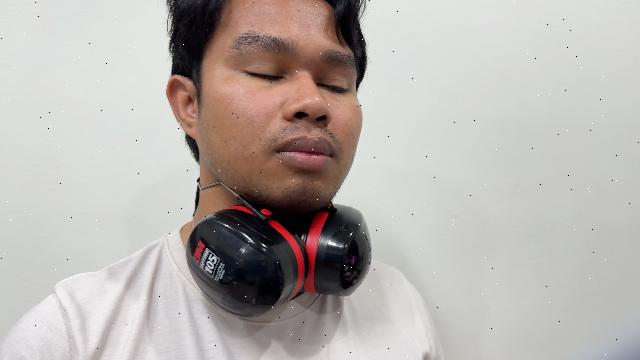headphones: (187, 182, 370, 316)
right_ear: (167, 74, 198, 142)
